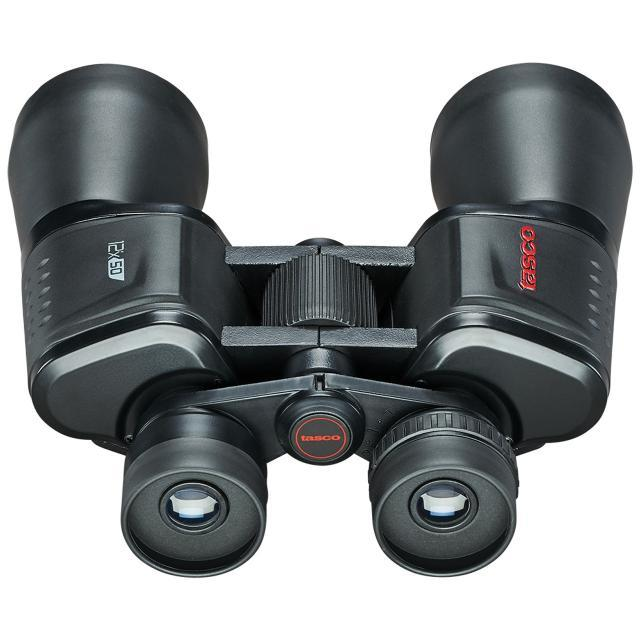Binocular: (4, 38, 634, 584)
